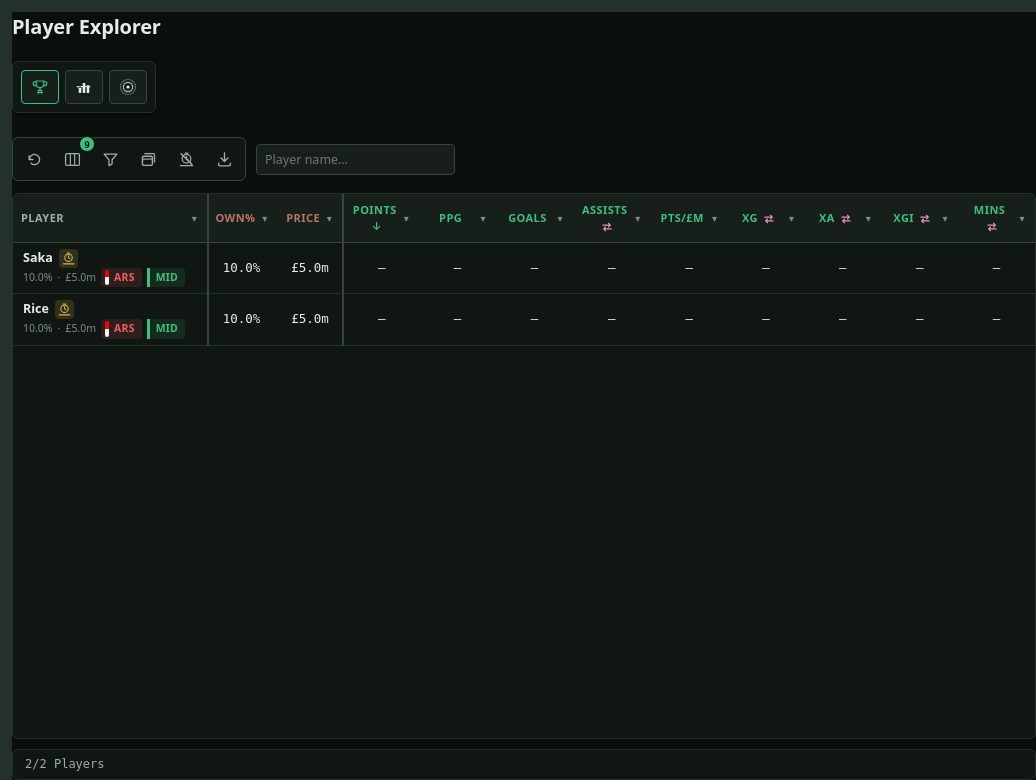
Test: Player Explorer with Understat mounted › Columns picker: green FPL-only groups, a crossover group for every figure with a ⇄ toggle, then Understat's own
Click the button named "Current Season" at (128, 87), box [109,70,147,104]
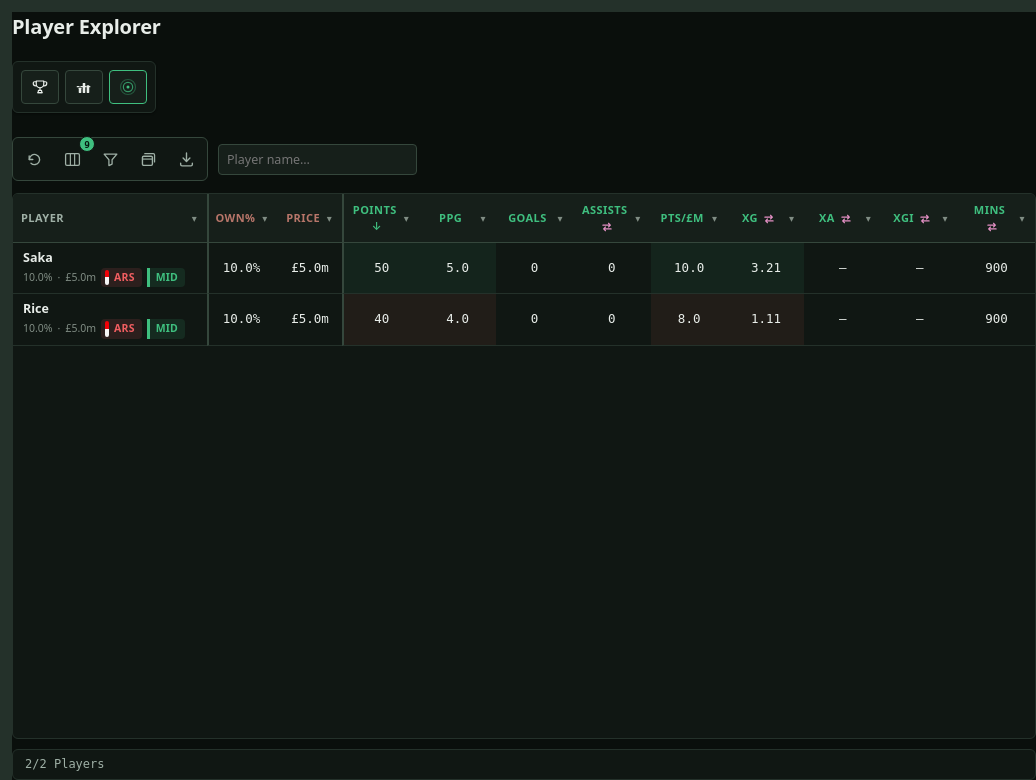
Click the button named "Columns" at (72, 159), box [55,142,89,176]
(page scrolled)
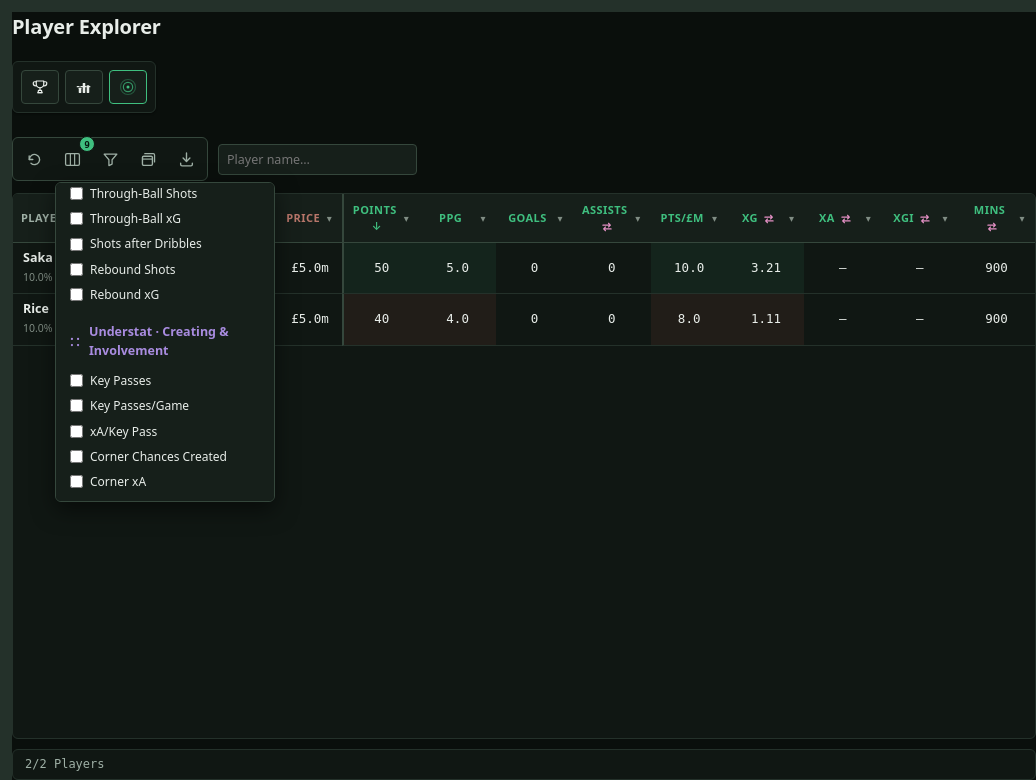
Result: the element with class "menu-group-heading" reads "Understat · Creating & Involvement" at [89,324,229,359]
